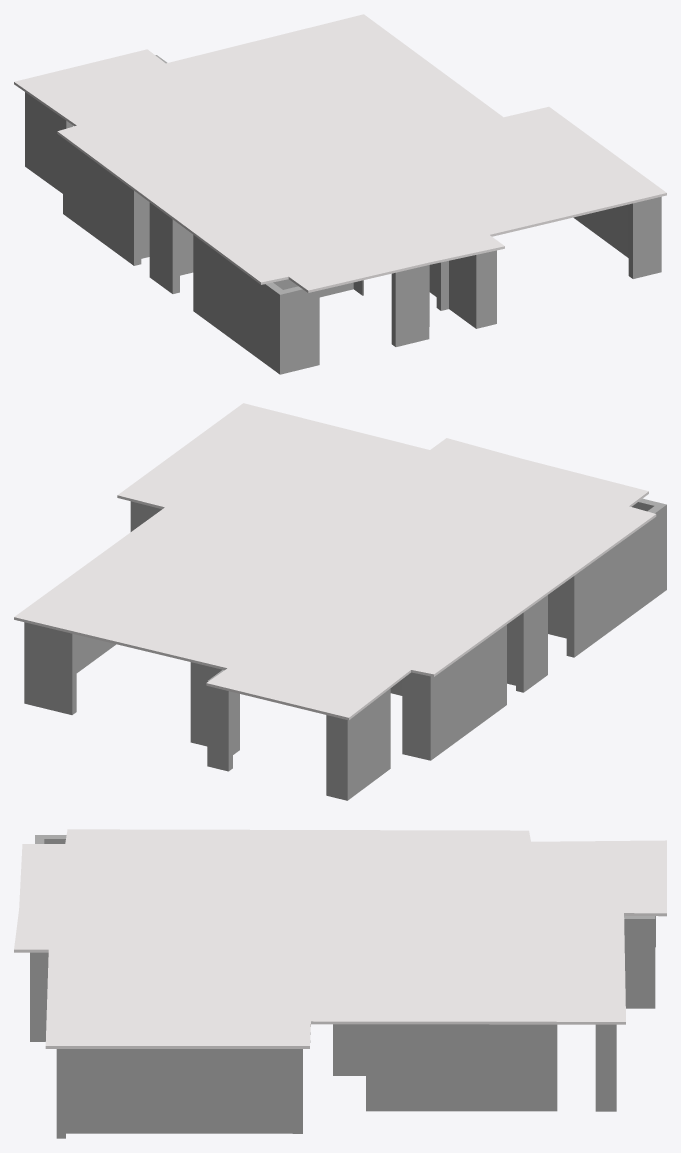
File: scheme_001.gltf
3 views of the same model, one above another, from view 1: azimuth 30°, elevation 25°; view 2: azimuth 150°, elevation 25°; view 3: azimuth 270°, elevation 25° (orthographic). The views are drawn at different scales.
Visible parts, largest first — view 1: Object001, floor_001_walls_29; view 2: Object001, floor_001_walls_29; view 3: Object001, floor_001_walls_29.
Part boxes in pixels (x1,y1,x2,y2): Object001: (14,14,666,292); floor_001_walls_29: (25,55,661,374); Object001: (14,403,656,720); floor_001_walls_29: (24,498,666,800); Object001: (14,829,666,1048); floor_001_walls_29: (30,835,655,1138).
Bounding box in the file's own units: 13.55 × 2.7 × 17.25.
2 materials, 1 textured.
